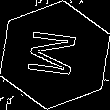M_E: (25, 29, 85, 81)
